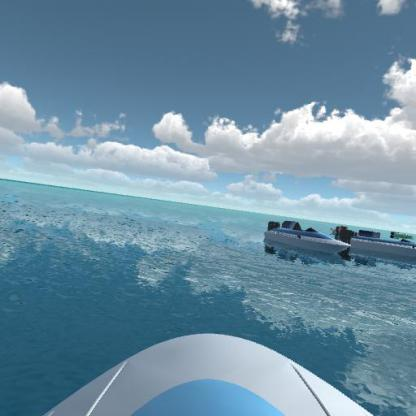usv0: (388, 229, 414, 240)
usv1: (260, 215, 357, 261), (342, 225, 415, 260)
usv3: (329, 219, 350, 236)
